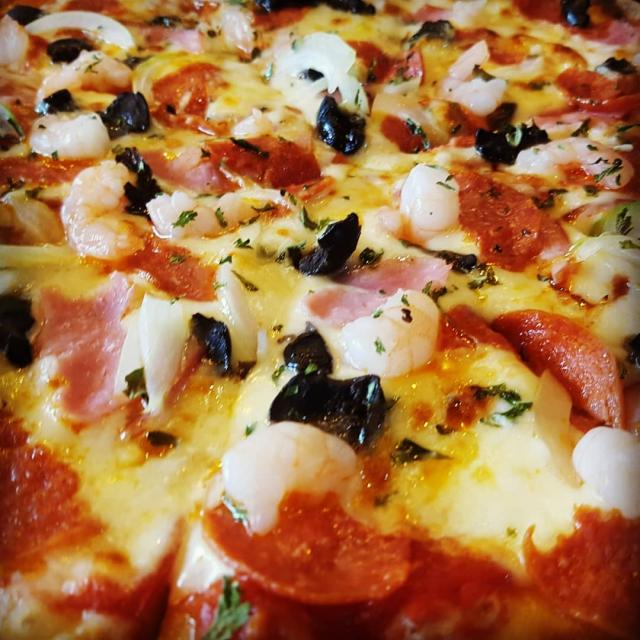black_olives: (264, 373, 388, 451), (282, 211, 364, 280), (473, 120, 554, 168), (116, 147, 162, 217), (316, 95, 367, 156), (189, 311, 234, 378), (0, 296, 37, 371), (282, 332, 336, 378), (99, 91, 150, 133), (47, 38, 93, 64), (319, 0, 378, 15), (6, 6, 50, 26), (42, 88, 74, 112), (595, 58, 637, 74), (565, 8, 595, 30), (258, 0, 324, 10), (560, 0, 592, 12)
pepperoni: (194, 487, 424, 609), (488, 304, 630, 438), (0, 409, 115, 571), (103, 234, 257, 308), (454, 173, 547, 275), (208, 135, 326, 194), (381, 98, 492, 157), (551, 67, 640, 111), (0, 152, 94, 190), (332, 42, 398, 82)
pizza: (0, 0, 640, 640)
